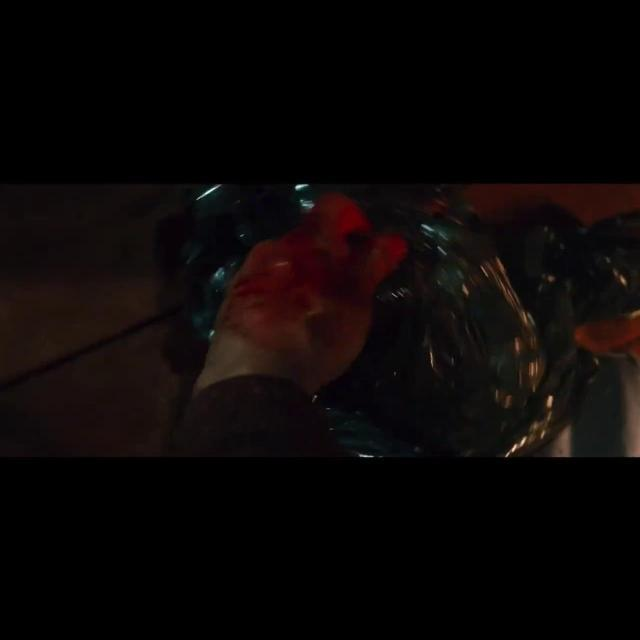blood: (215, 192, 409, 381)
